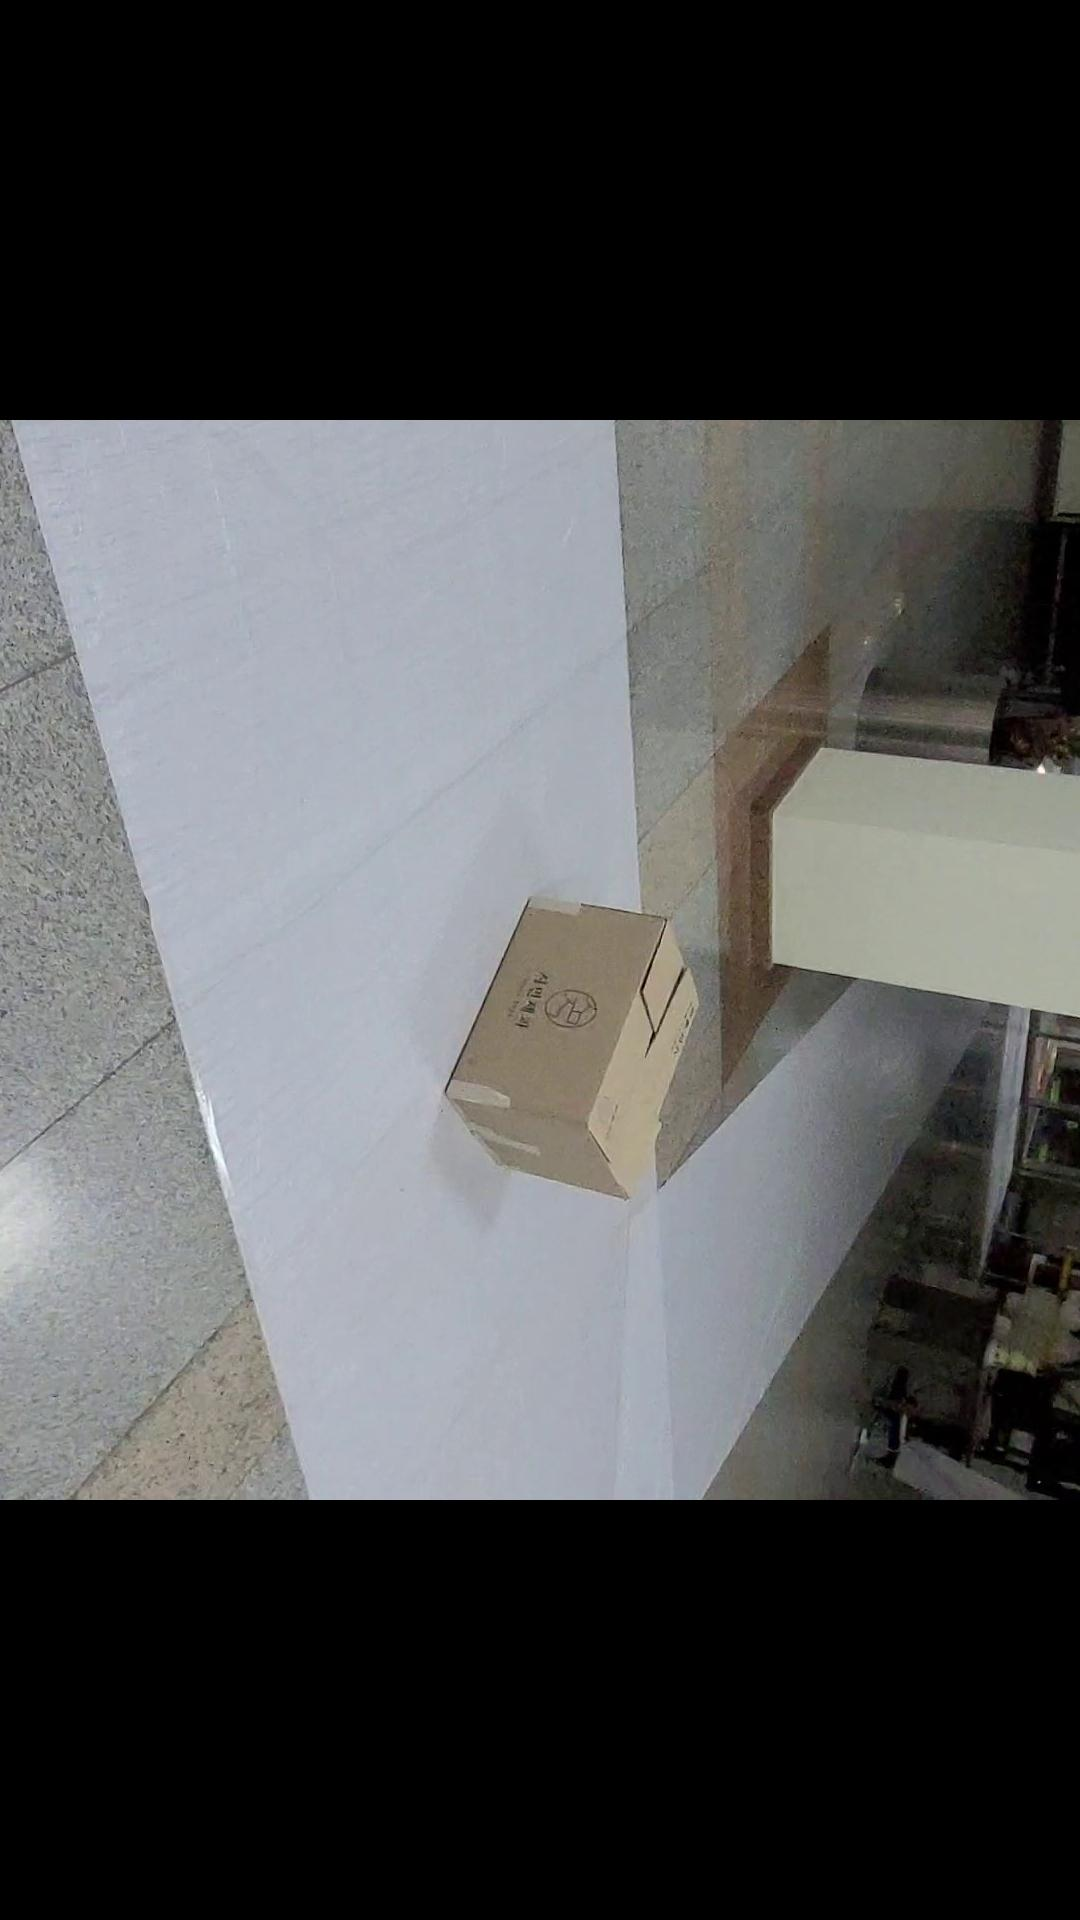Box: (410, 862, 731, 1215)
